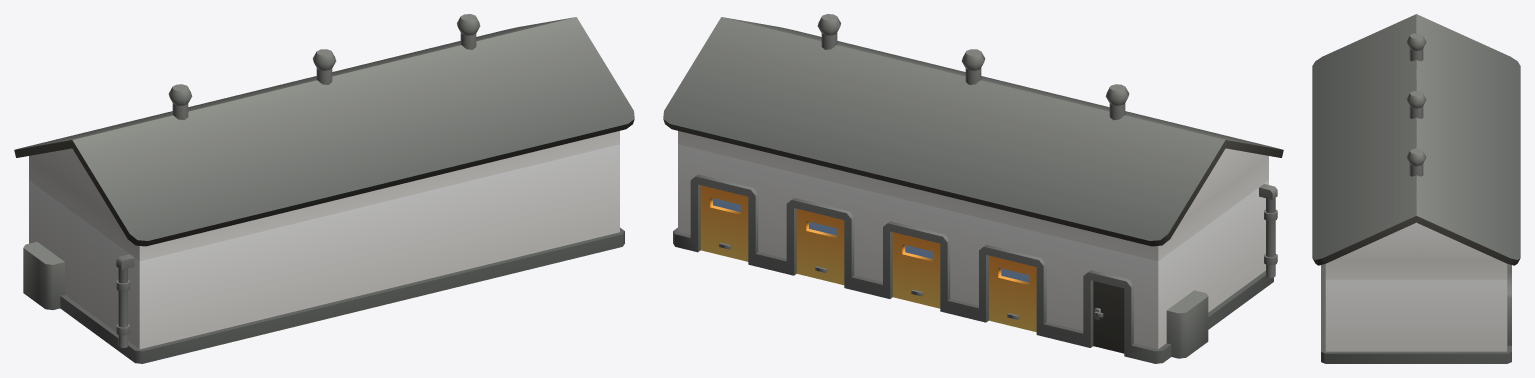
File: ind-building-s.glb
3 views of the same model, side by side, from view 1: azimuth 30°, elevation 25°; view 2: azimuth 150°, elevation 25°; view 3: azimuth 270°, elevation 25° (orthographic). The views are drawn at different scales.
Parts seen in each view (by area): view 1: building-s; view 2: building-s; view 3: building-s.
Boxes of the visible parts, x1,y1,x2,y2 form: building-s: [14, 14, 634, 363]; building-s: [663, 14, 1283, 363]; building-s: [1312, 14, 1520, 363].
Bounding box in the file's own units: 2.12 × 0.8368 × 0.9163.
Materials: 1 (1 with a texture image).
